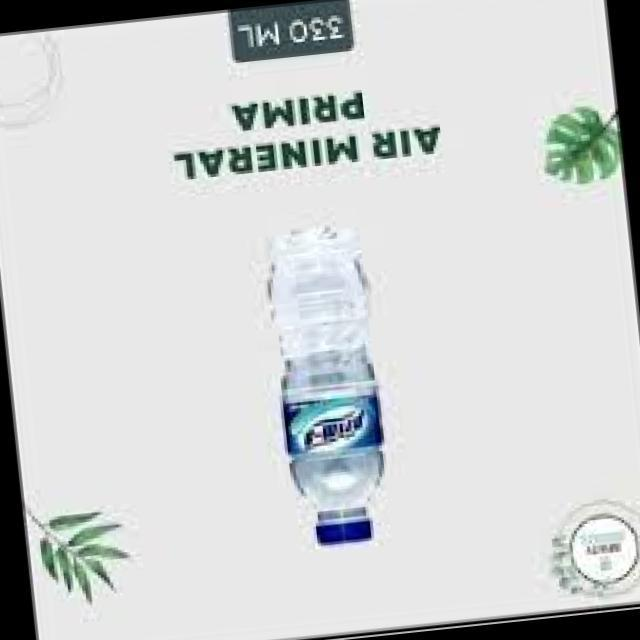good: (235, 220, 410, 561)
